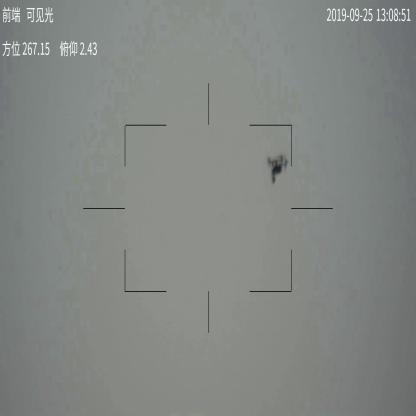uav: (266, 153, 290, 184)
